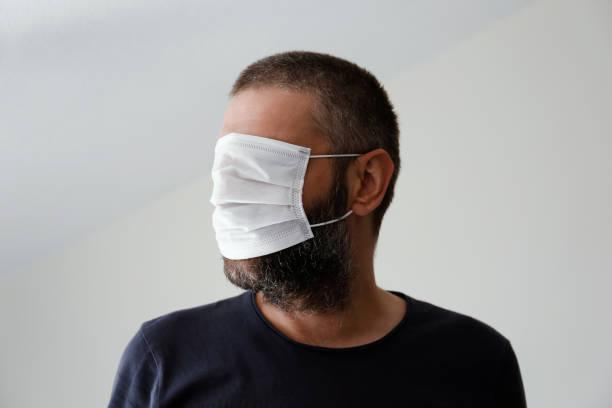mask_weared_incorrect: (208, 77, 346, 312)
